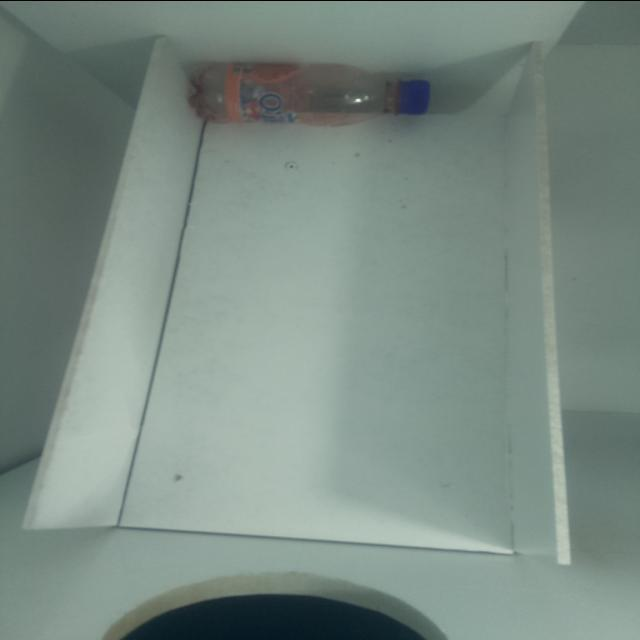good: (159, 44, 441, 147)
